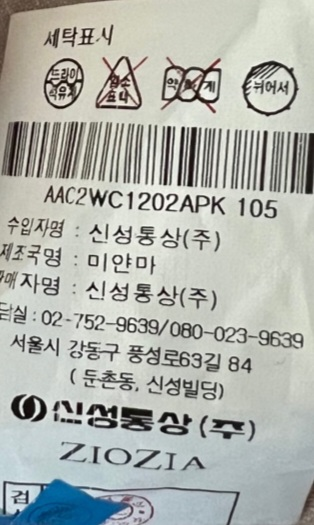KR_dry_clean_petroleum: (41, 54, 87, 113)
KR_flat_dry_in_shade: (238, 54, 302, 117)
KR_no_chlorine_bleach: (92, 53, 147, 112)
KR_no_wring: (160, 54, 227, 115)
